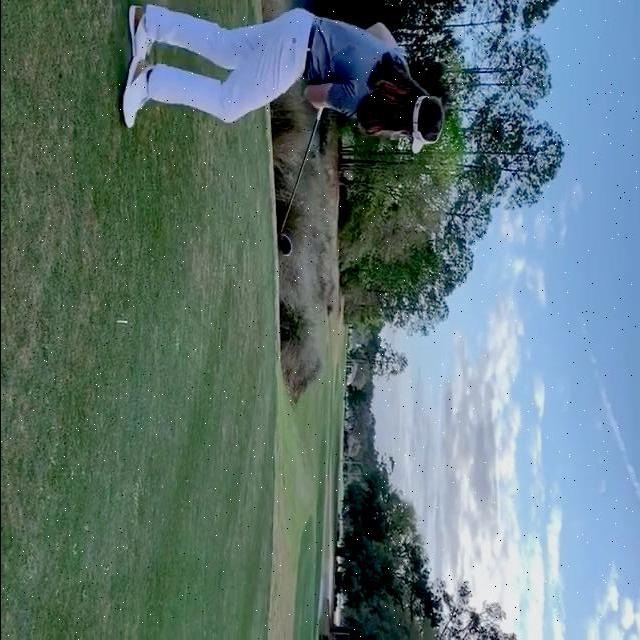golf club-handle: (274, 103, 325, 260)
golf club-head: (275, 232, 291, 257)
